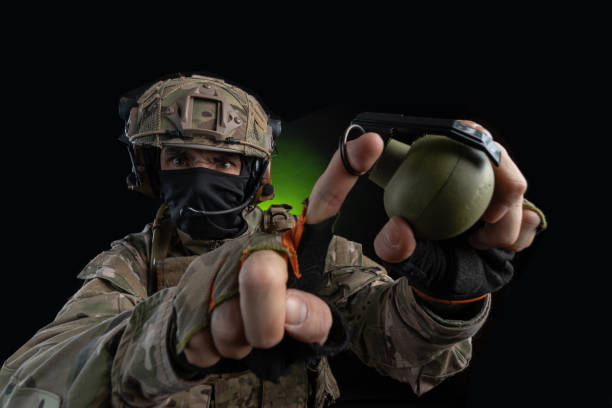e1: (337, 120, 498, 232)
